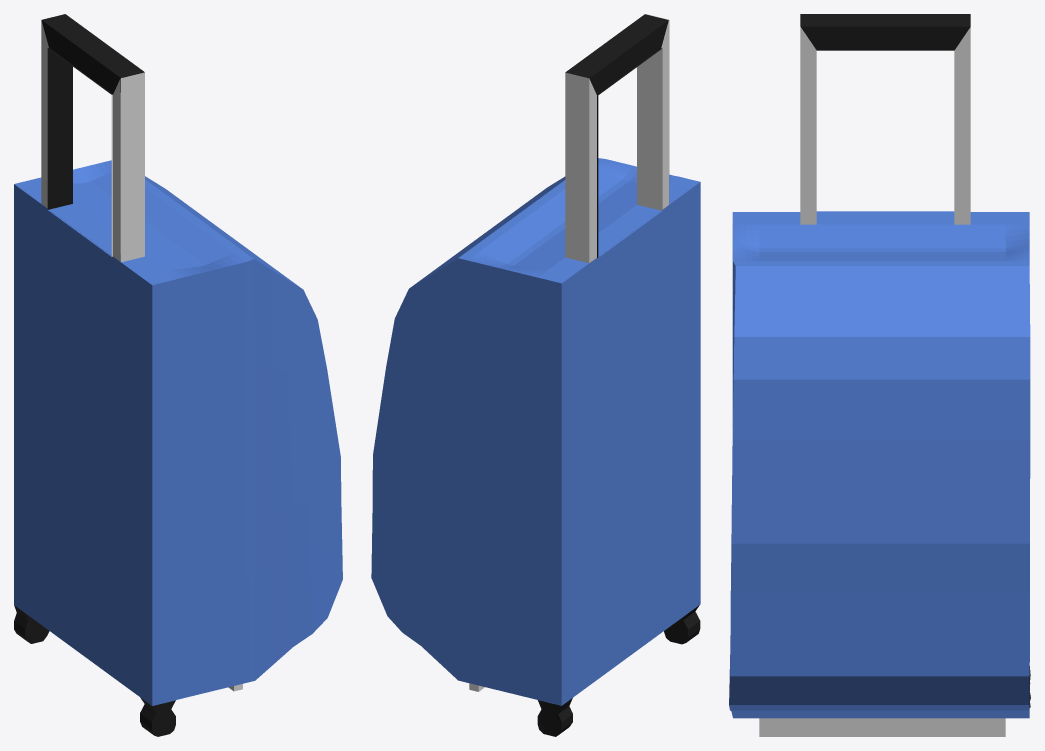
Rendered from rolling_bg.fbx.
3 renders of one model, left to right at view 1: azimuth 30°, elevation 25°; view 2: azimuth 150°, elevation 25°; view 3: azimuth 270°, elevation 25°, orthographic. The views are drawn at different scales.
Parts seen in each view (by area): view 1: Cube; view 2: Cube; view 3: Cube.
Part boxes in pixels (box(x1,y1,x2,y2)): Cube: box(14, 14, 342, 736); Cube: box(371, 14, 700, 736); Cube: box(729, 14, 1030, 736).
Bounding box in the file's own units: 201 × 642 × 256.
